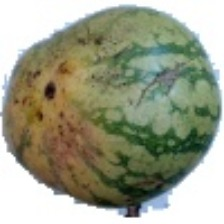watermelon: (31, 28, 208, 175)
